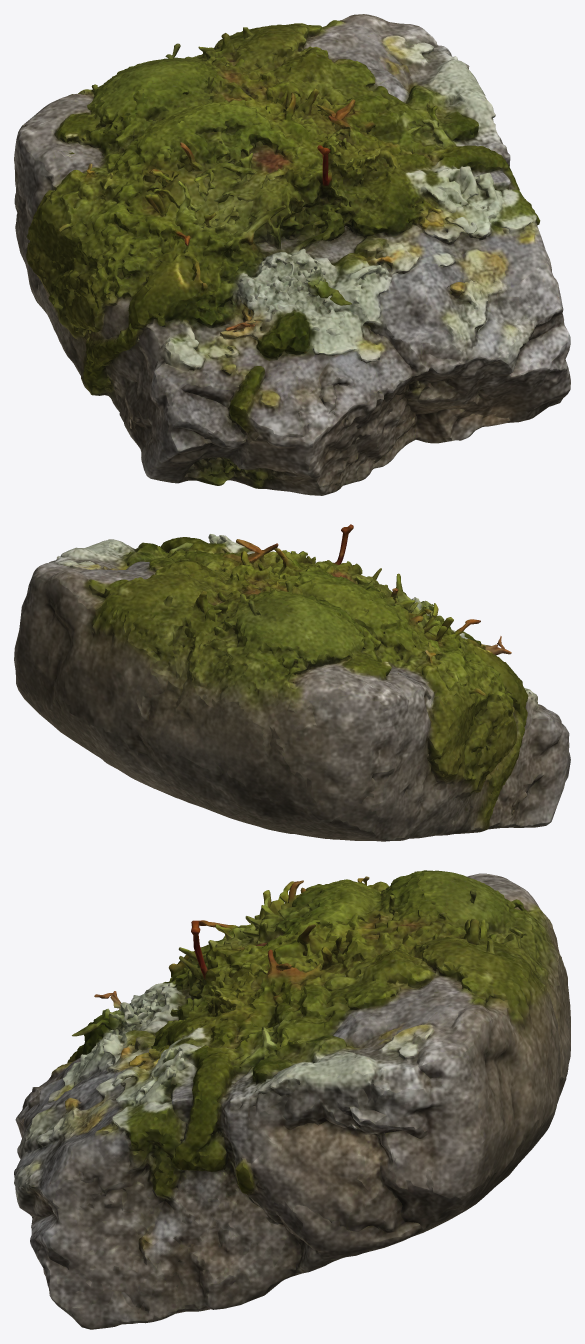
File: mossy-granite-slab-v21.glb
3 renders of one model, top to bottom at view 1: azimuth 30°, elevation 25°; view 2: azimuth 150°, elevation 25°; view 3: azimuth 270°, elevation 25°, orthographic. The views are drawn at different scales.
Visible parts, largest first — view 1: geometry_0; view 2: geometry_0; view 3: geometry_0.
Part boxes in pixels (x1,y1,x2,y2): geometry_0: [14, 14, 570, 495]; geometry_0: [14, 524, 570, 841]; geometry_0: [14, 870, 570, 1329].
Size of the model in its own units: 0.2798 by 0.1941 by 0.2752.
1 material, 1 textured.
